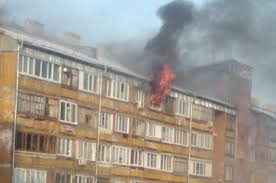fire: (139, 62, 171, 115)
